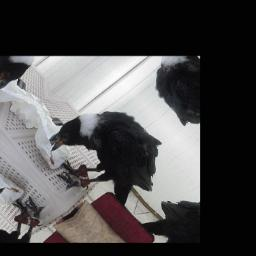Crow: (28, 86, 185, 229)
